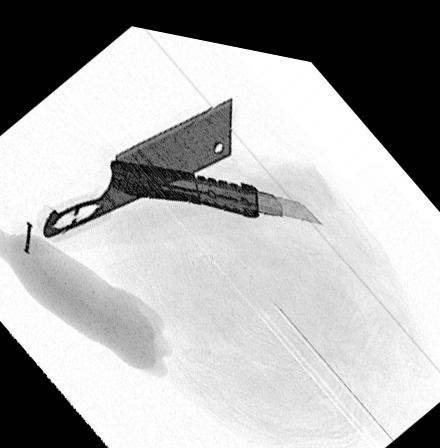Knife: (35, 87, 233, 241), (108, 155, 324, 212)
